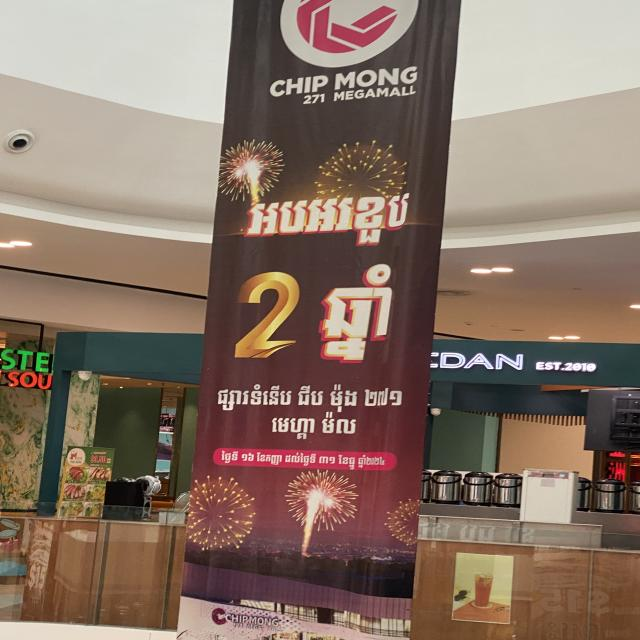1: (268, 411, 360, 443)
3: (211, 380, 406, 415)
6: (216, 449, 390, 470)
631: (228, 268, 303, 365)
893: (299, 92, 329, 107)
Yolov11_80vkh: (239, 189, 417, 252), (313, 258, 405, 367)
